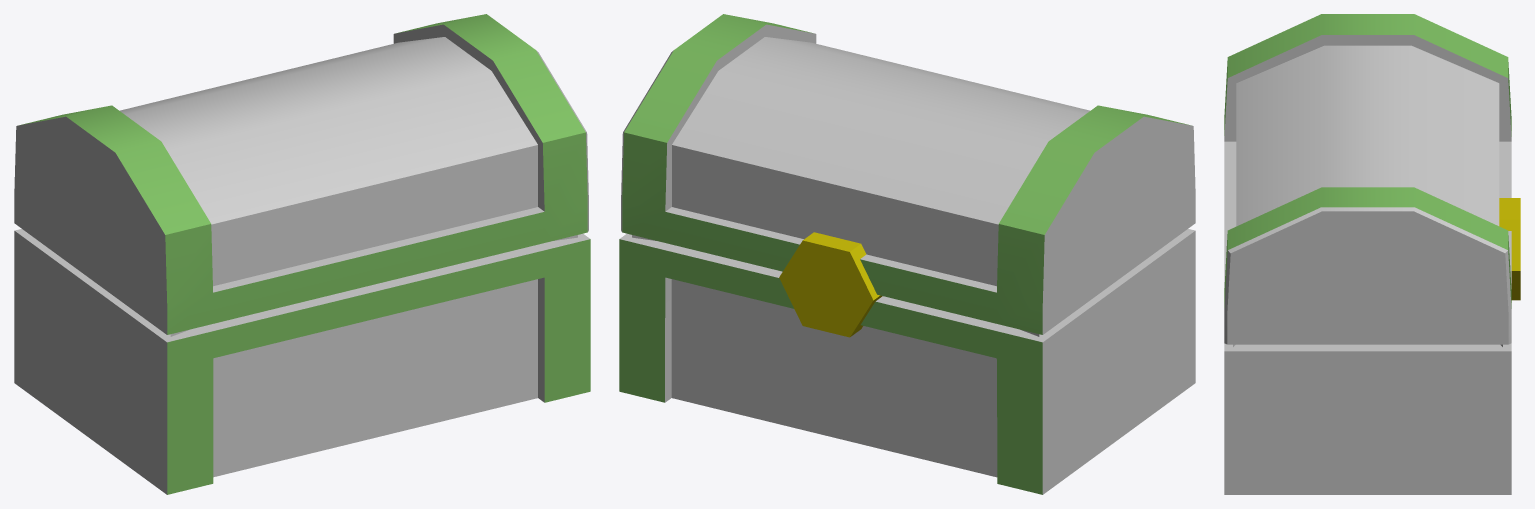
Rendered from chest.dae.
3 views of the same model, side by side, from view 1: azimuth 30°, elevation 25°; view 2: azimuth 150°, elevation 25°; view 3: azimuth 270°, elevation 25° (orthographic). The views are drawn at different scales.
Visible parts, largest first — view 1: pCube2; view 2: pCube2; view 3: pCube2.
Boxes of the visible parts, bbox=[...] form: pCube2: bbox=[14, 14, 590, 494]; pCube2: bbox=[619, 14, 1195, 494]; pCube2: bbox=[1224, 14, 1520, 494].
Bounding box in the file's own units: 1.75 × 1.2 × 1.13.
